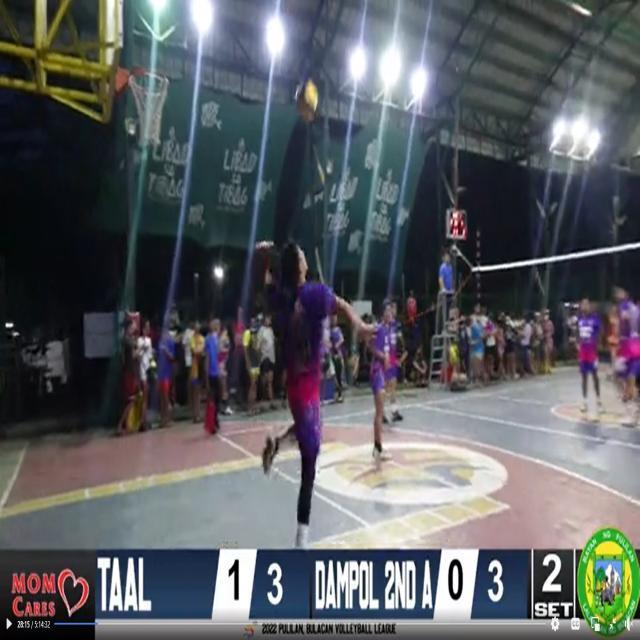volleyball: (296, 83, 318, 121)
